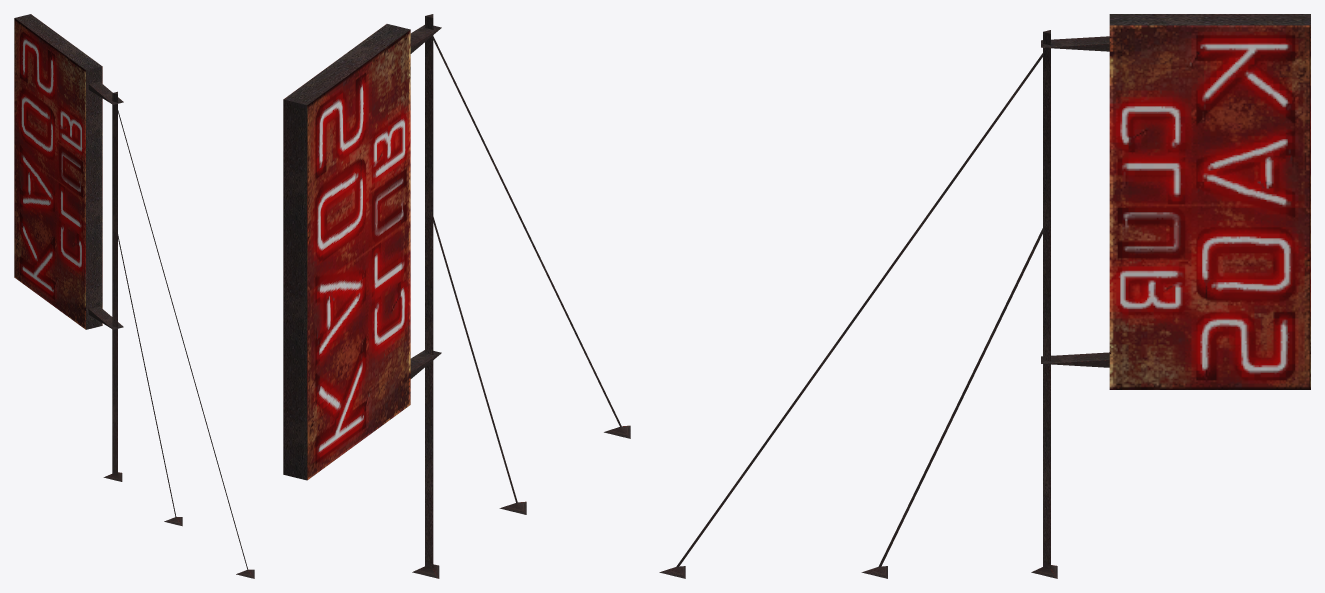
Rendered from kaos.fbx.
3 views of the same model, side by side, from view 1: azimuth 30°, elevation 25°; view 2: azimuth 150°, elevation 25°; view 3: azimuth 270°, elevation 25° (orthographic). The views are drawn at different scales.
Visible parts, largest first — view 1: mesh_0; view 2: mesh_0; view 3: mesh_0.
Boxes of the visible parts, x1=… form: mesh_0: x1=14, y1=14, x2=254, y2=578; mesh_0: x1=283, y1=14, x2=630, y2=578; mesh_0: x1=659, y1=14, x2=1310, y2=578.
Size of the model in its own units: 23 by 455 by 486.
1 material, 1 textured.
